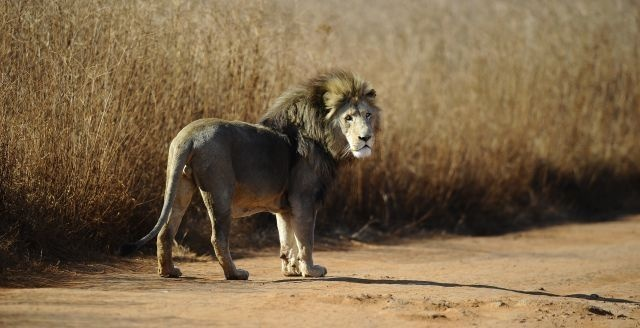lion: (126, 65, 386, 282)
